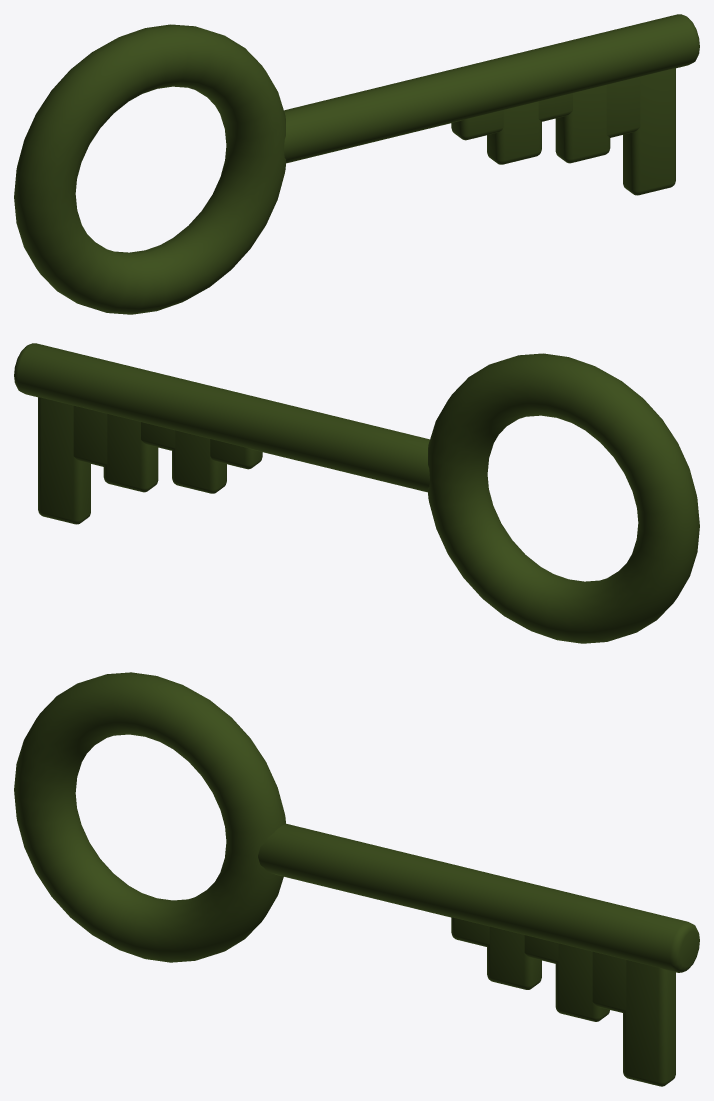
The model's file is llave.fbx.
3 views of the same model, one above another, from view 1: azimuth 30°, elevation 25°; view 2: azimuth 150°, elevation 25°; view 3: azimuth 330°, elevation 25° (orthographic).
Visible parts, largest first — view 1: Toroide, Cilindro, Cubo, Cubo_2, Cubo_4, Cubo_1, Cubo_5, Cubo_3; view 2: Toroide, Cilindro, Cubo, Cubo_2, Cubo_4, Cubo_1, Cubo_5, Cubo_3; view 3: Toroide, Cilindro, Cubo, Cubo_2, Cubo_4, Cubo_1, Cubo_5, Cubo_3.
Boxes of the visible parts, <box> form: Toroide: <box>14,24,285,314</box>; Cilindro: <box>284,14,699,163</box>; Cubo: <box>623,68,675,195</box>; Cubo_2: <box>555,85,610,163</box>; Cubo_4: <box>487,101,541,164</box>; Cubo_1: <box>606,76,640,137</box>; Cubo_5: <box>451,110,503,140</box>; Cubo_3: <box>538,93,572,121</box>; Toroide: <box>428,353,699,643</box>; Cilindro: <box>14,343,429,492</box>; Cubo: <box>38,397,90,524</box>; Cubo_2: <box>103,414,158,492</box>; Cubo_4: <box>172,430,226,493</box>; Cubo_1: <box>73,405,107,466</box>; Cubo_5: <box>210,439,262,469</box>; Cubo_3: <box>141,422,175,450</box>; Toroide: <box>14,672,285,962</box>; Cilindro: <box>258,823,699,972</box>; Cubo: <box>623,960,675,1086</box>; Cubo_2: <box>555,943,609,1021</box>; Cubo_4: <box>487,926,541,989</box>; Cubo_1: <box>592,951,626,1012</box>; Cubo_5: <box>451,917,489,946</box>; Cubo_3: <box>524,935,558,963</box>.
Bounding box in the file's own units: 873 × 347 × 70.03.
